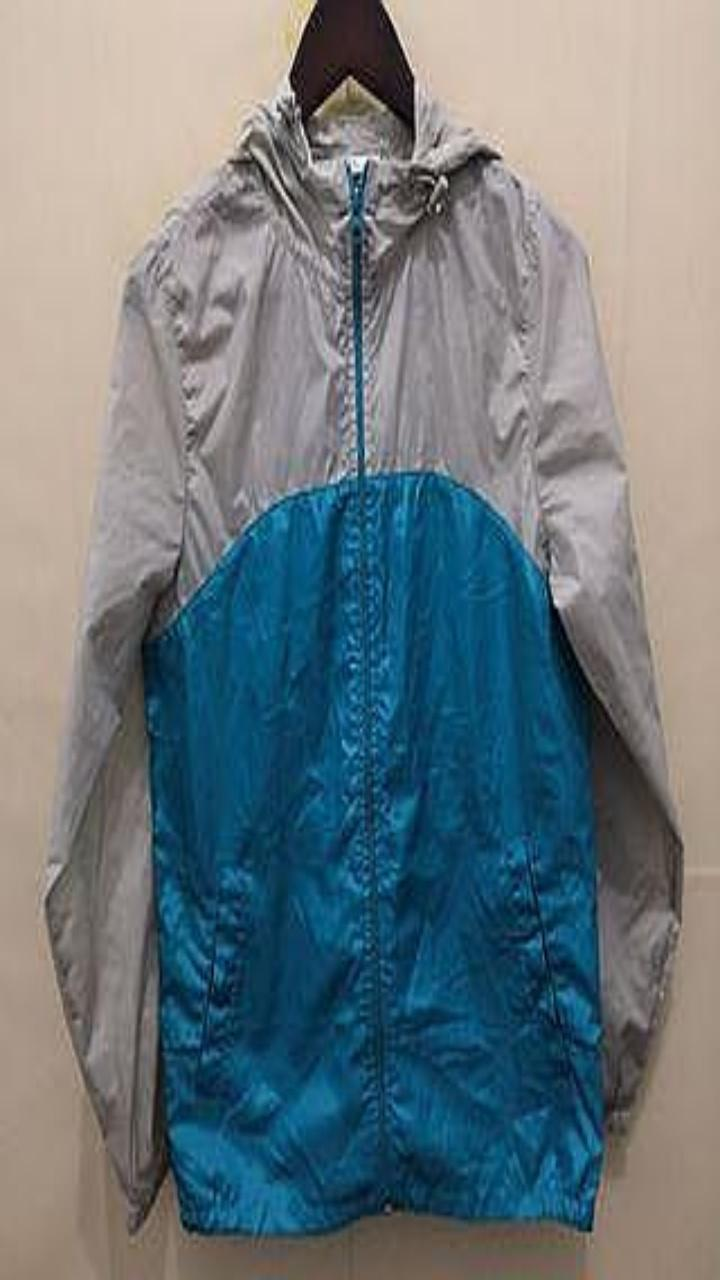Sports_Jacket: (43, 70, 682, 1233)
